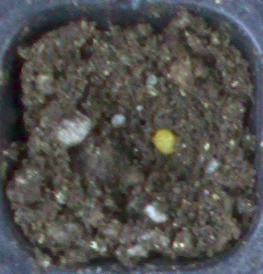chilli seed: (152, 128, 175, 154)
